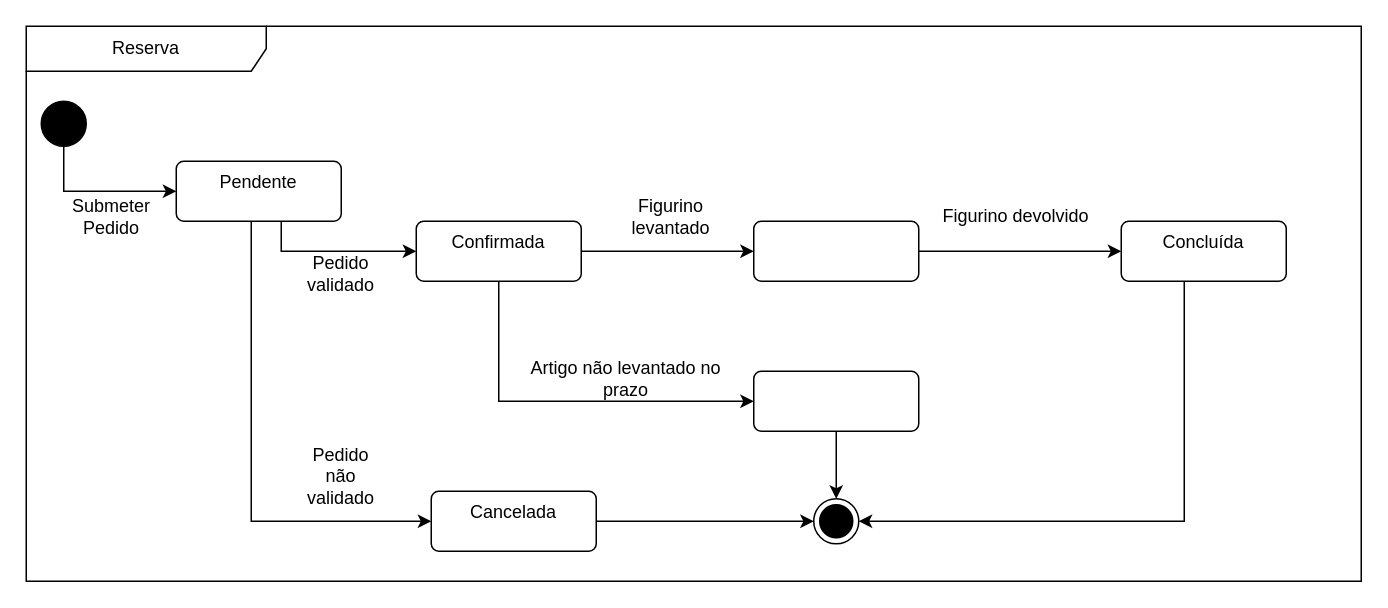
Some shapes in this 1388 by 608 pixel diagram are drawn without their labels. Here are the shapes that lost their labels. From the top down, the box of each, then its label:
(752, 220, 919, 281): Em curso
(752, 370, 919, 431): Expirada
